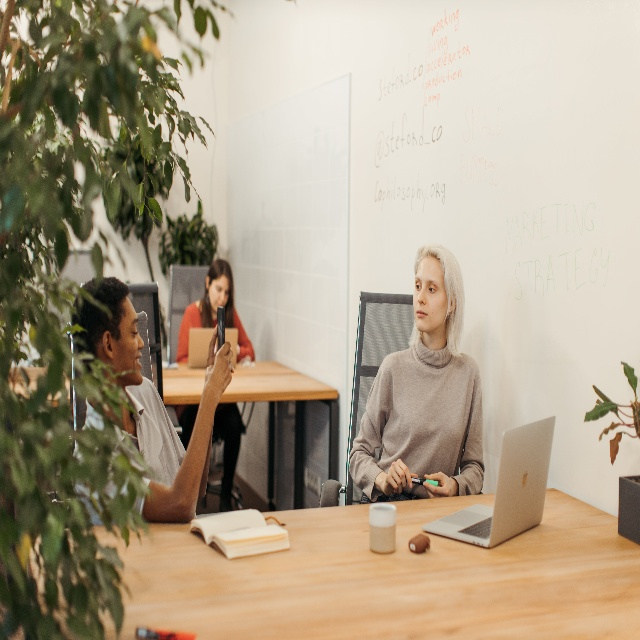Sin_guantes: (204, 340, 233, 403), (383, 459, 418, 496), (423, 470, 454, 499), (206, 323, 218, 368)
